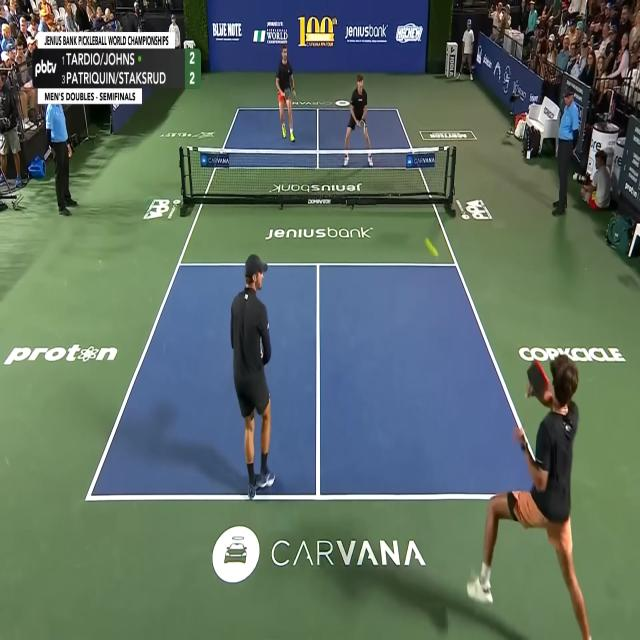ball: (424, 236, 438, 256)
